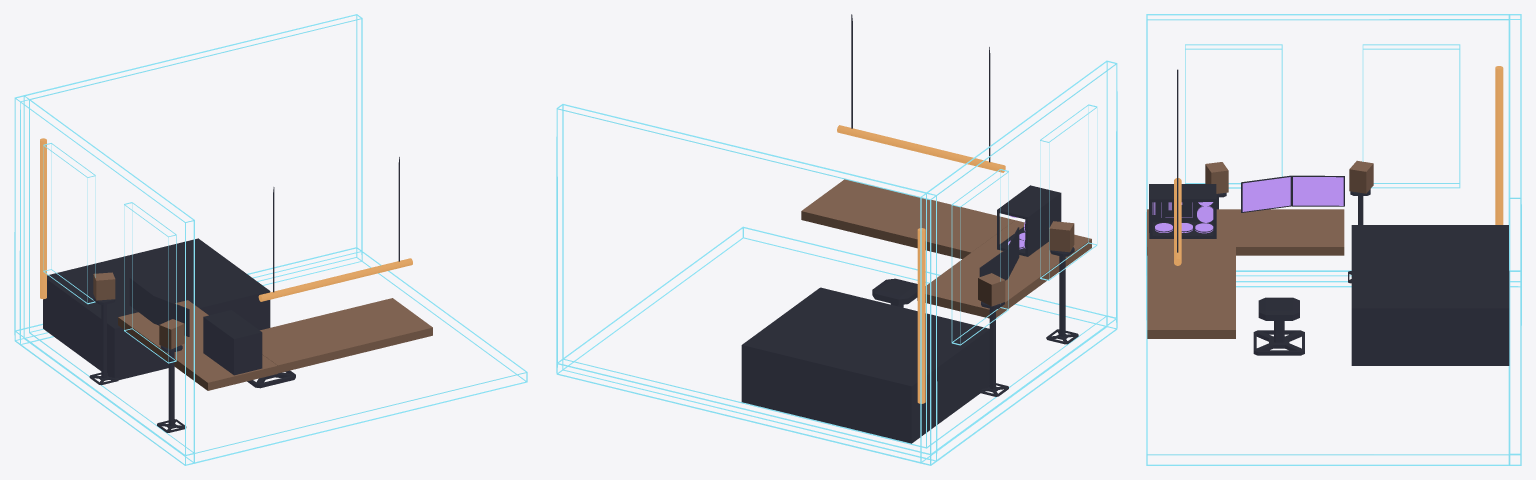
Rendered from myroom.glb.
3 views of the same model, side by side, from view 1: azimuth 30°, elevation 25°; view 2: azimuth 150°, elevation 25°; view 3: azimuth 270°, elevation 25° (orthographic). The views are drawn at different scales.
Parts seen in each view (by area): view 1: Plane.001, Room, Plane.002, Plane, Cube, Neon, Neon.001, Cube.020, Cube.019, monitor2, Cube.021, Cube.018 (+3 smaller); view 2: Plane.001, Room, Plane.002, Plane, Cube, Neon.001, Neon, Cube.021, Cube.017, Cube.019, Cube.020, Cube.018 (+2 smaller); view 3: Plane.001, Plane.002, Room, Plane, Cube, Cube.017, screen1, screen2, Neon.001, Cube.021, Cube.020, Plane.005 (+2 smaller).
Boxes of the visible parts, x1,y1,x2,y2 form: Plane.001: (43,238,270,379); Room: (14,14,527,465); Plane.002: (260,298,432,373); Plane: (118,300,277,390); Cube: (203,310,262,375); Neon: (258,258,412,301); Neon.001: (40,138,46,299); Cube.020: (124,202,176,363); Cube.019: (157,345,186,432); monitor2: (153,295,189,336); Cube.021: (43,143,95,304); Cube.018: (89,296,118,385); Plane.001: (741,287,989,443); Room: (556,60,1117,465); Plane.002: (801,179,1014,258); Plane: (917,220,1091,318); Cube: (997,185,1061,256); Neon.001: (917,228,925,403); Neon: (837,125,1005,172); Cube.021: (951,169,1008,345); Cube.017: (872,278,917,307); Cube.019: (1046,247,1078,344); Cube.020: (1040,104,1097,280); Cube.018: (979,301,1008,396); Plane.001: (1351,225,1509,365); Plane.002: (1147,246,1235,338); Room: (1146,14,1521,465); Plane: (1147,209,1344,255); Cube: (1149,184,1216,238); Cube.017: (1253,297,1304,355); screen1: (1293,177,1343,205); screen2: (1242,177,1290,211); Neon.001: (1495,66,1503,224); Cube.021: (1362,44,1460,188); Cube.020: (1185,44,1282,188); Plane.005: (1349,160,1373,193).
Size of the model in its own units: 20.94 by 14.25 by 18.07.
